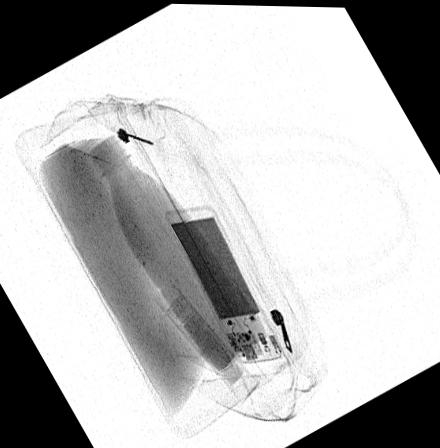Powerbank: (164, 202, 281, 363)
